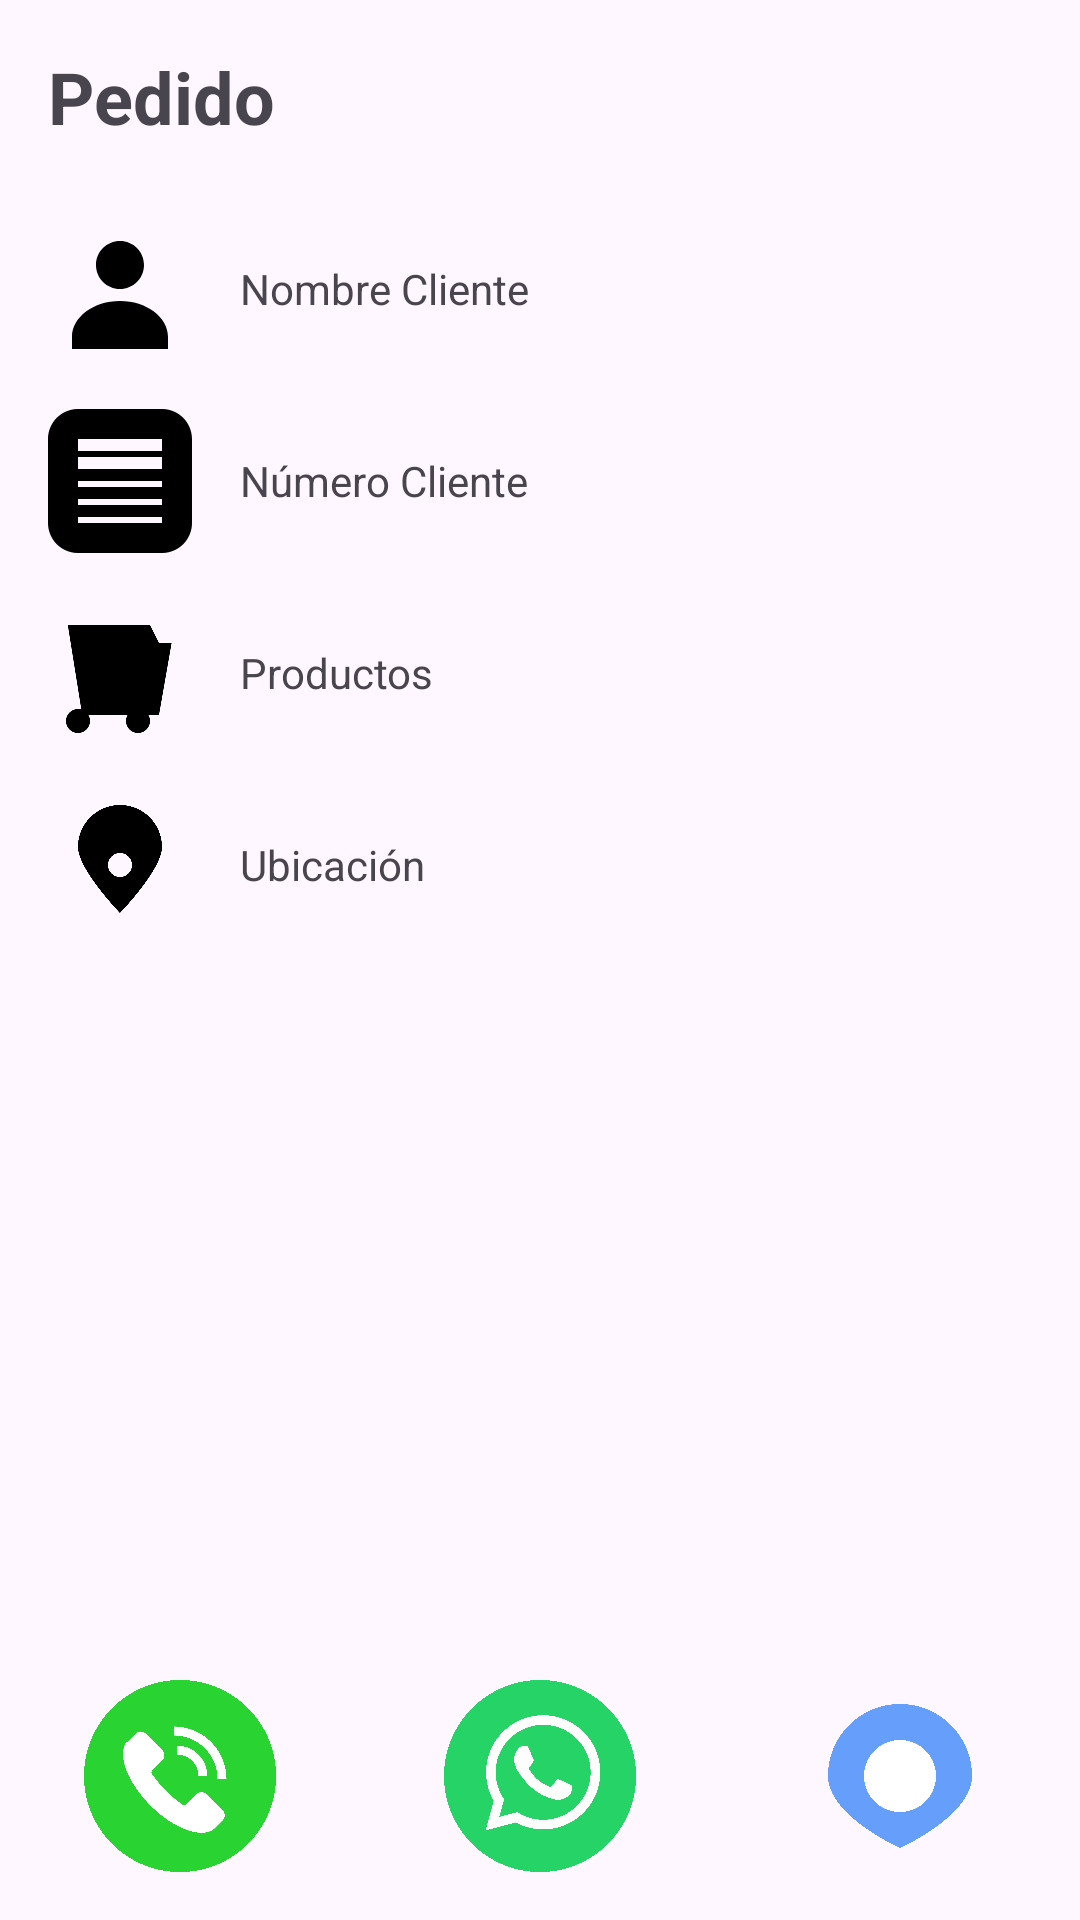

Screen size 1080×1920. Icon name, then its center in pixels as (x=x, y=y):
llamar: (x=180, y=1776)
ubicacion: (x=120, y=859)
